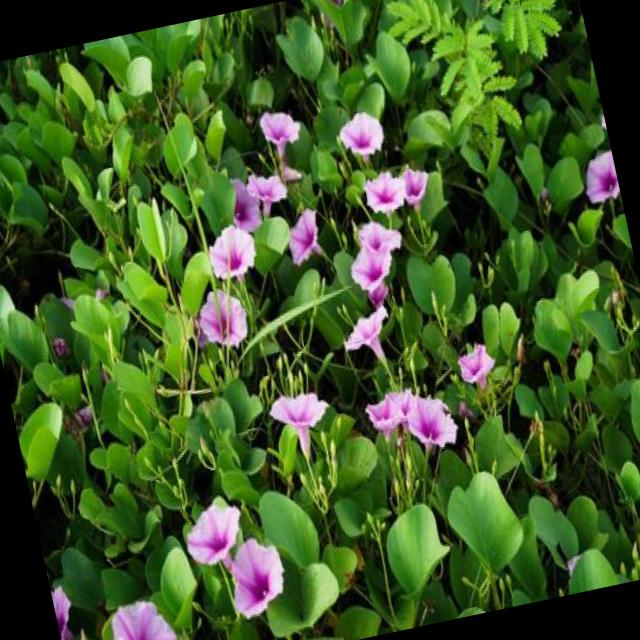ipomoea: (217, 529, 295, 626), (261, 378, 341, 468), (175, 492, 253, 576), (188, 279, 256, 360), (398, 386, 463, 461), (200, 216, 264, 291), (334, 299, 400, 370), (101, 589, 187, 640), (330, 102, 391, 169), (448, 334, 504, 399), (278, 202, 330, 272), (252, 100, 308, 164), (574, 145, 622, 213)
